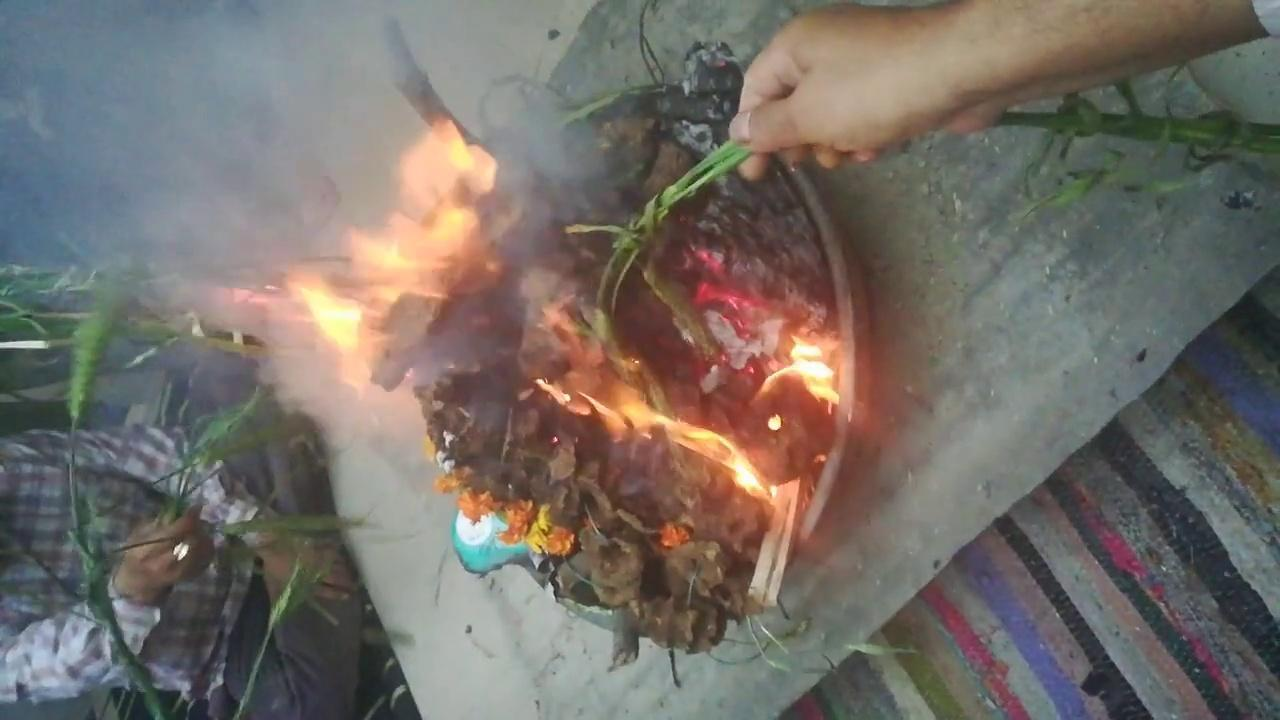fire: (271, 110, 506, 352), (598, 387, 797, 523), (753, 316, 855, 412)
